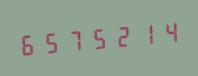five: (40, 25, 62, 59), (86, 21, 108, 55)
four: (155, 15, 177, 49)
one: (132, 17, 154, 51)
seven: (63, 23, 85, 57)
six: (17, 27, 39, 61)
two: (109, 19, 131, 53)
